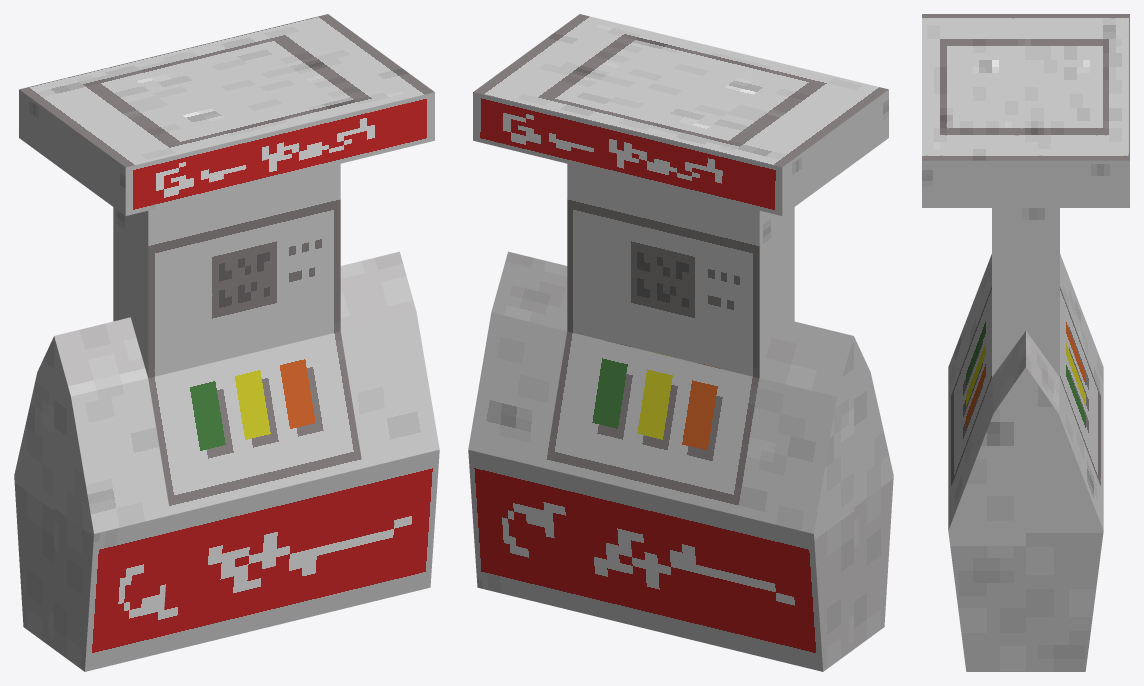
File: gasPump.obj
The picture shows the model from 3 angles, left to right: view 1: azimuth 30°, elevation 25°; view 2: azimuth 150°, elevation 25°; view 3: azimuth 270°, elevation 25°; orthographic projection. The views are drawn at different scales.
Visible parts, largest first — view 1: Cube.003; view 2: Cube.003; view 3: Cube.003.
Part boxes in pixels (<box>): Cube.003: <box>14,14,439,671</box>; Cube.003: <box>468,14,893,671</box>; Cube.003: <box>922,14,1129,671</box>.
Size of the model in its own units: 2.5 by 3.57 by 1.34.
1 material, 1 textured.
